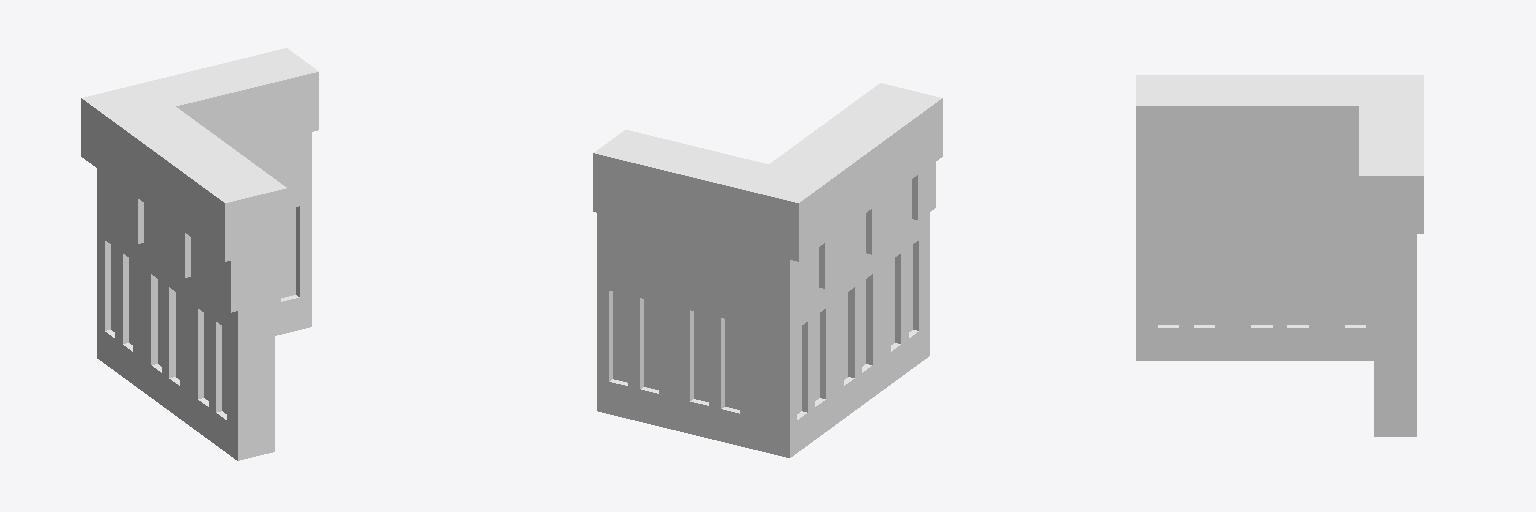
File: wallCurve.obj
The picture shows the model from 3 angles: view 1: azimuth 30°, elevation 25°; view 2: azimuth 150°, elevation 25°; view 3: azimuth 270°, elevation 25°; orthographic projection.
Visible parts, largest first — view 1: object 1; view 2: object 1; view 3: object 1.
Boxes of the visible parts, box(x1,y1,x2,y2) form: object 1: box(81, 48, 318, 460); object 1: box(593, 83, 942, 457); object 1: box(1136, 75, 1423, 436).
Bounding box in the file's own units: 3.3 × 4 × 4.